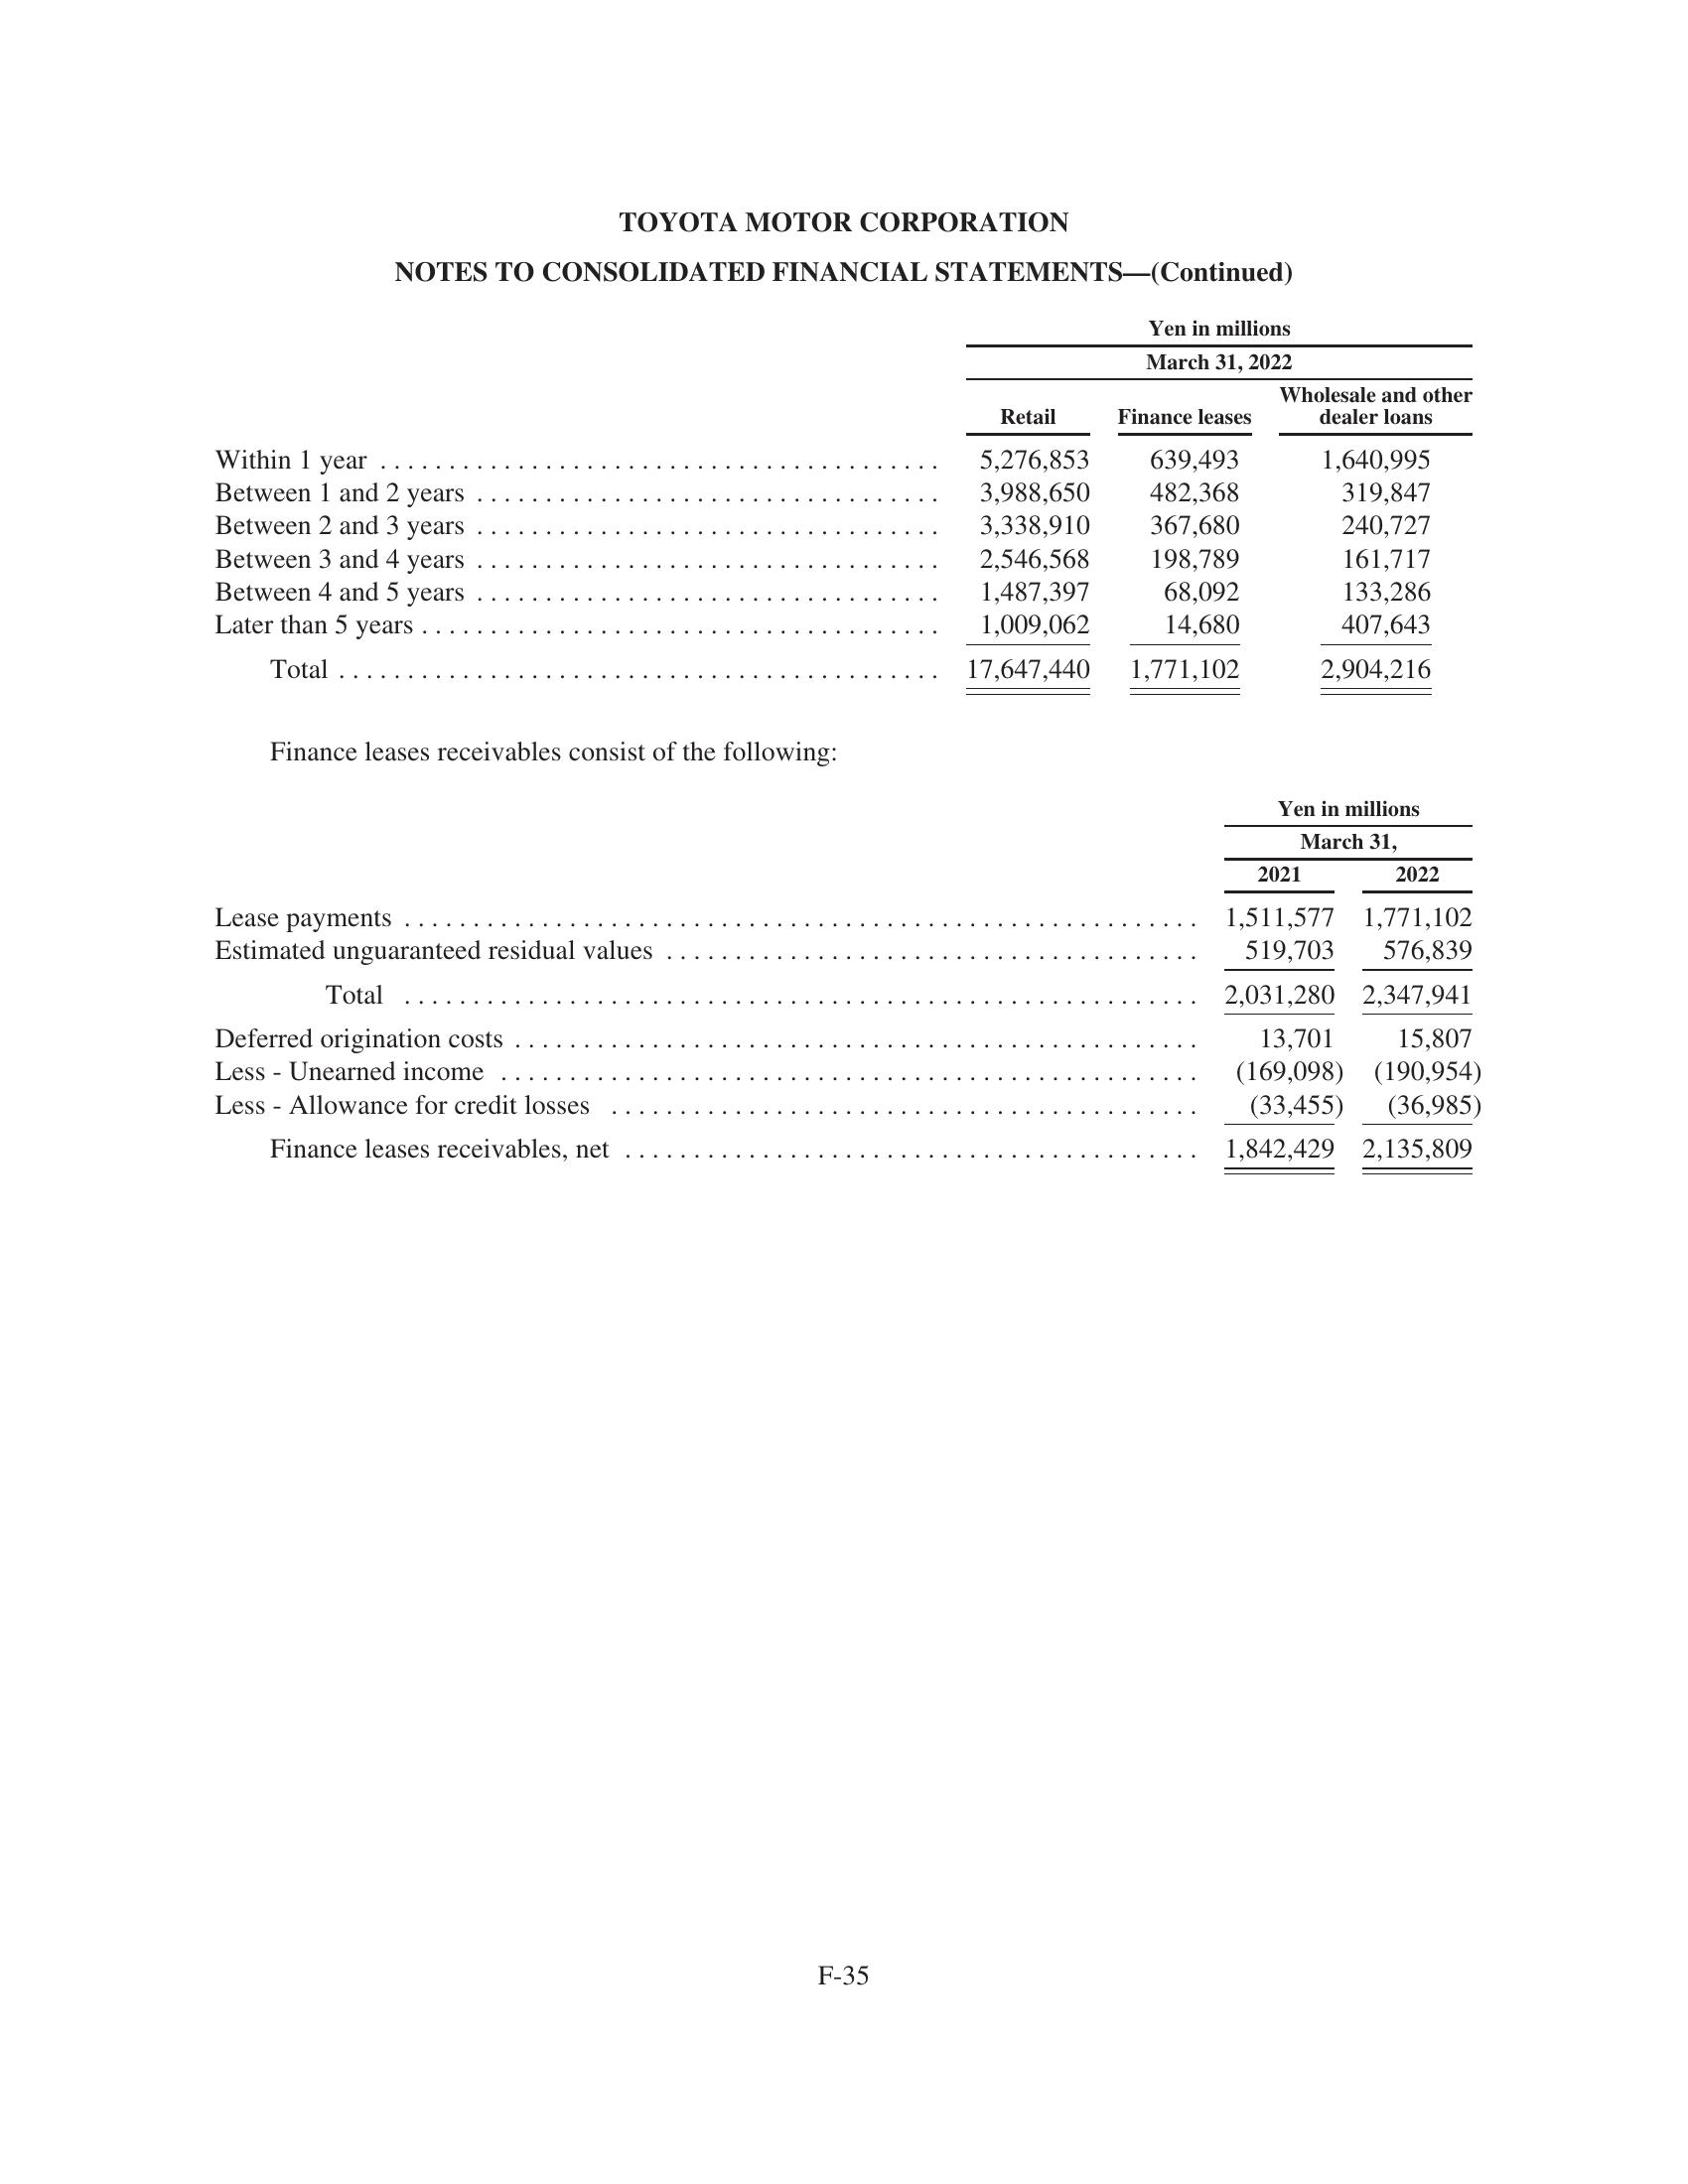Footer: (0, 1941, 1688, 2184)
Header: (0, 0, 1688, 179)
Table: (176, 775, 1500, 1218), (188, 310, 1488, 714)
